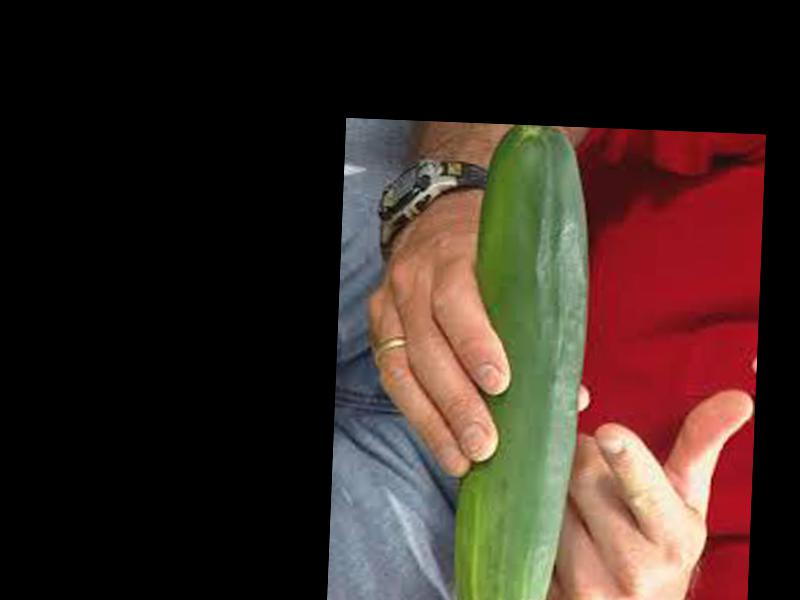Cucumber: (448, 122, 594, 600)
